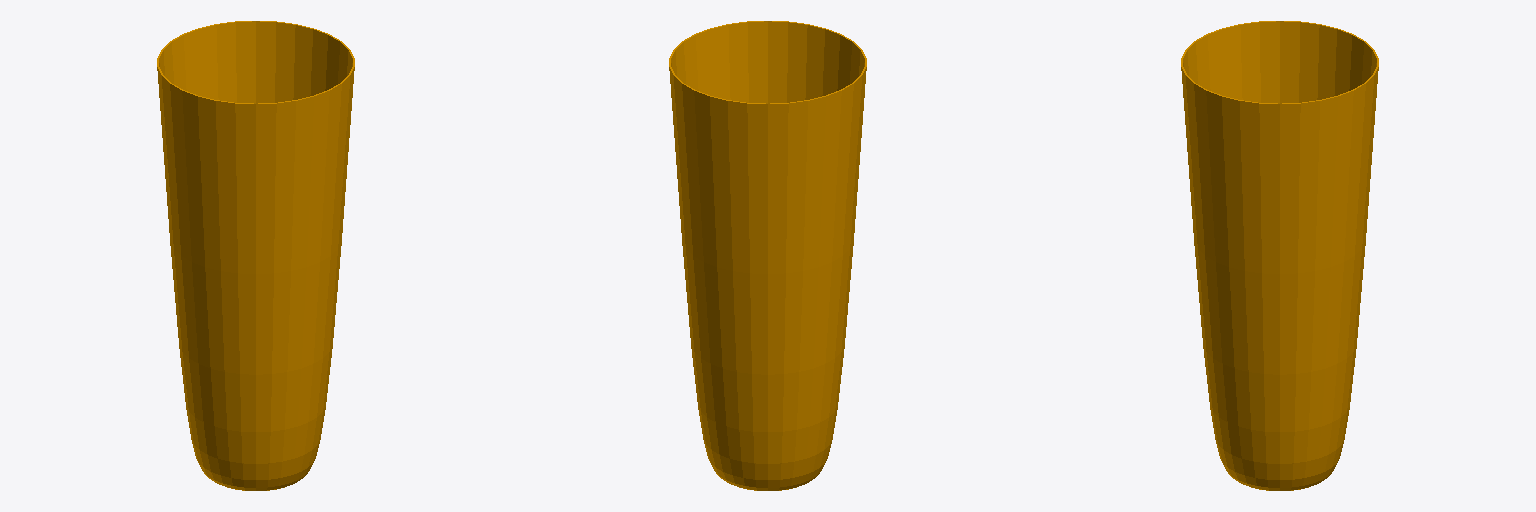
The robot description file, URDF, robot "object_332509488":

		<robot name="object_332509488">
			<link name="link_object_332509488">
				<visual>
					<geometry>
						<mesh filename="temp_object_332509488.obj" />
					</geometry>
				</visual>

				<collision>
					<geometry>
						<mesh filename="temp_object_332509488.obj" />
					</geometry>
				</collision>
				
				<inertial>
					<origin rpy="0 0 0" xyz="0 0 0"/>
					<mass value="0.3" />
					<inertia ixx="0.3" ixy="0" ixz="0" iyy="0.3" iyz="0" izz="0.3" />
				</inertial>
			</link>
		</robot>
		

--- Render facts (derived) ---
The picture shows the robot from 3 angles, left to right: view 1: azimuth 30°, elevation 25°; view 2: azimuth 150°, elevation 25°; view 3: azimuth 270°, elevation 25°; orthographic projection.
Model object_332509488 with 1 links and 0 joints (none), rooted at link_object_332509488, posed every joint at zero.
Links seen in each view (by area): view 1: link_object_332509488; view 2: link_object_332509488; view 3: link_object_332509488.
Link boxes in pixels (x1=…): link_object_332509488: x1=157, y1=21, x2=354, y2=490; link_object_332509488: x1=669, y1=21, x2=866, y2=490; link_object_332509488: x1=1181, y1=21, x2=1378, y2=490.
Bounding box of the posed robot: 0.0658 × 0.0655 × 0.1501 m (x, y, z).
Meshes: 1 distinct files referenced, 1 mesh visuals loaded (1 OBJ).
